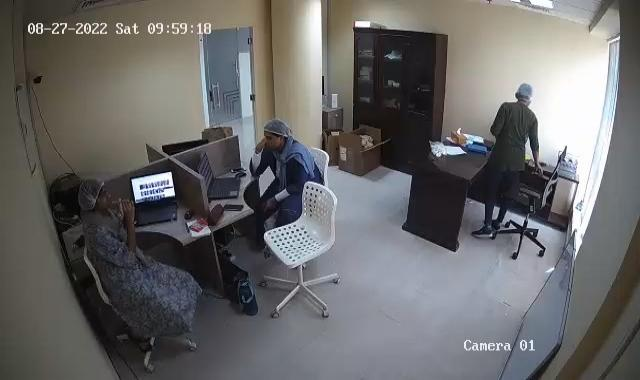hairnet: (69, 174, 105, 214), (260, 119, 292, 146), (517, 80, 533, 108)
